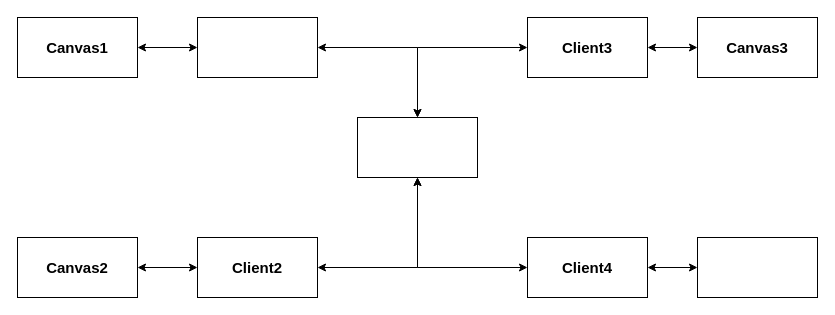
The diagram is 835 pixels wide and 315 high, and some of its shapes have lost their labels. Here are the shapes that lost their labels. From the top down, the box of each, then its label:
(196, 16, 318, 78): Client1 (Manager)
(356, 116, 478, 178): Server
(696, 236, 818, 298): Canvas4
